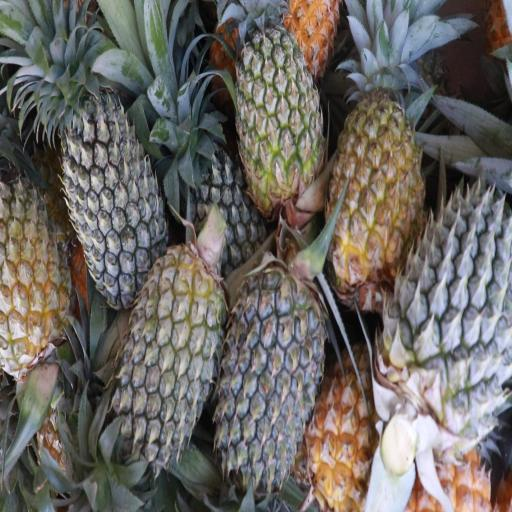------------------------------: (233, 2, 323, 212)
Pineapple - v8 v1: (330, 90, 424, 288), (307, 333, 401, 512), (0, 184, 69, 377)
